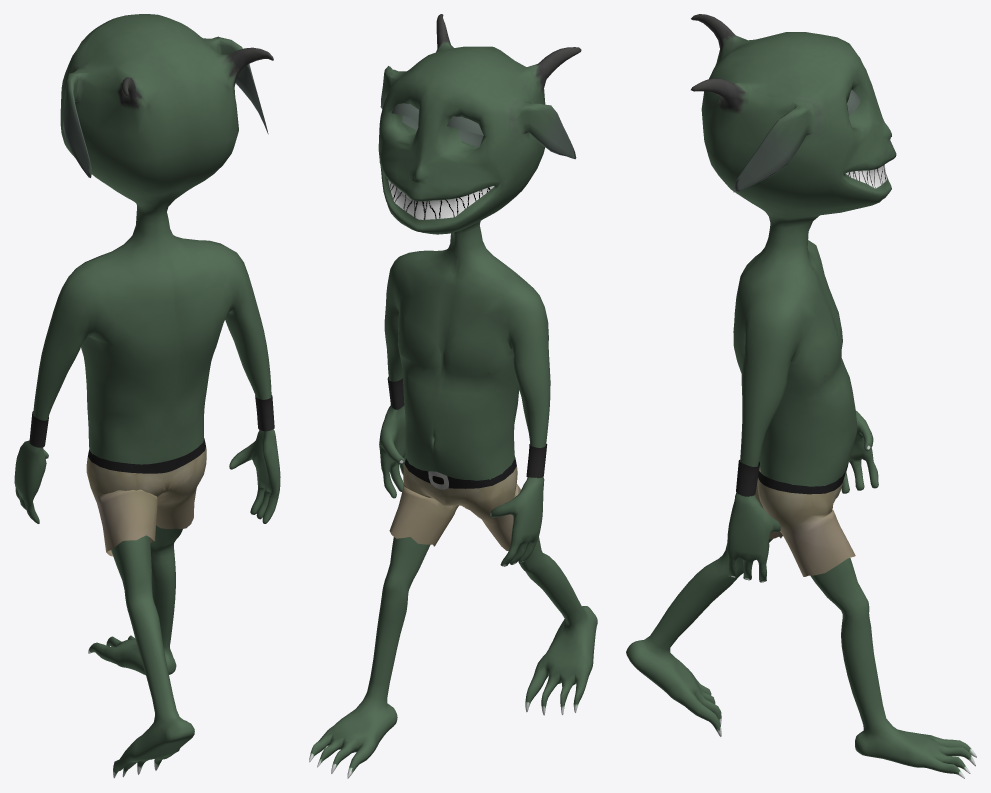
The model's file is lwjglcharactergoblin11_000024.obj.
3 renders of one model, left to right at view 1: azimuth 30°, elevation 25°; view 2: azimuth 150°, elevation 25°; view 3: azimuth 270°, elevation 25°, orthographic. The views are drawn at different scales.
Parts seen in each view (by area): view 1: Cube.002; view 2: Cube.002; view 3: Cube.002.
Boxes of the visible parts, x1,y1,x2,y2 form: Cube.002: (14,14,280,778); Cube.002: (309,14,597,778); Cube.002: (626,14,976,778).
Size of the model in its own units: 1.18 by 3.86 by 1.72.
